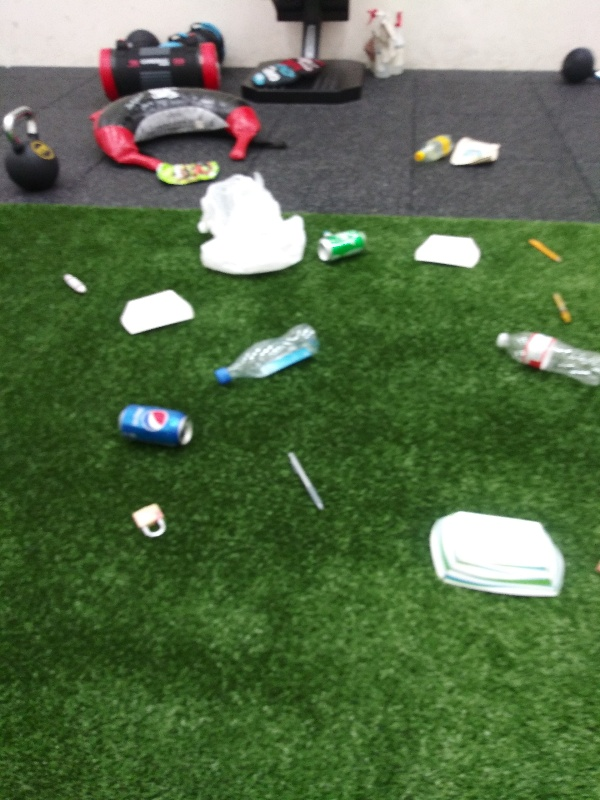bag: (446, 132, 505, 173), (153, 159, 223, 190)
bottle: (212, 321, 323, 388), (493, 328, 600, 391), (410, 125, 457, 168)
can: (114, 401, 196, 454), (313, 225, 370, 267)
plate: (427, 509, 570, 601), (117, 287, 196, 336), (413, 230, 483, 277)
